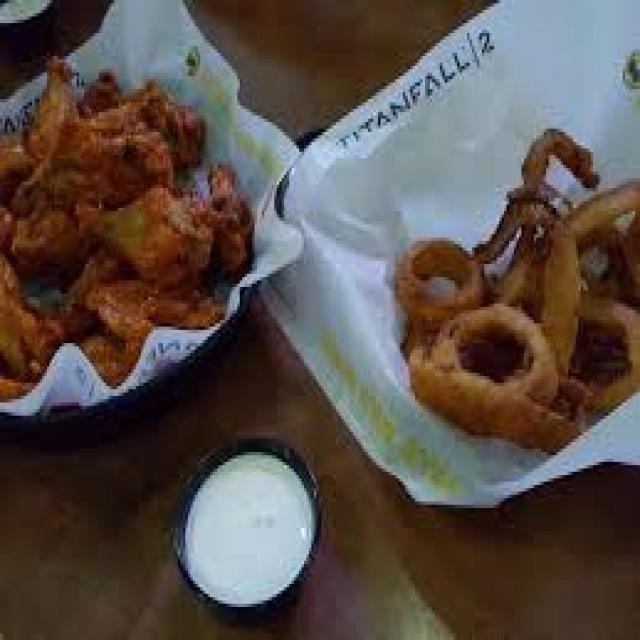Chicken Wings: (1, 55, 258, 403)
Onion Rings: (380, 109, 638, 455)
